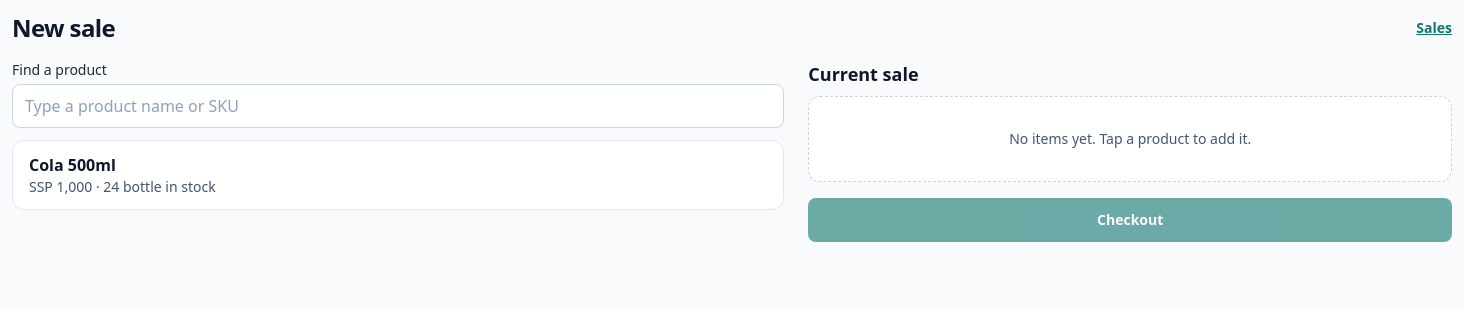
Test case: NewSalePage › adds products to the cart and keeps the total up to date
Click the button "Cola 500ml SSP 1,000 · 24 bottle in stock": (72, 165) x1=13 y1=141 x2=783 y2=209
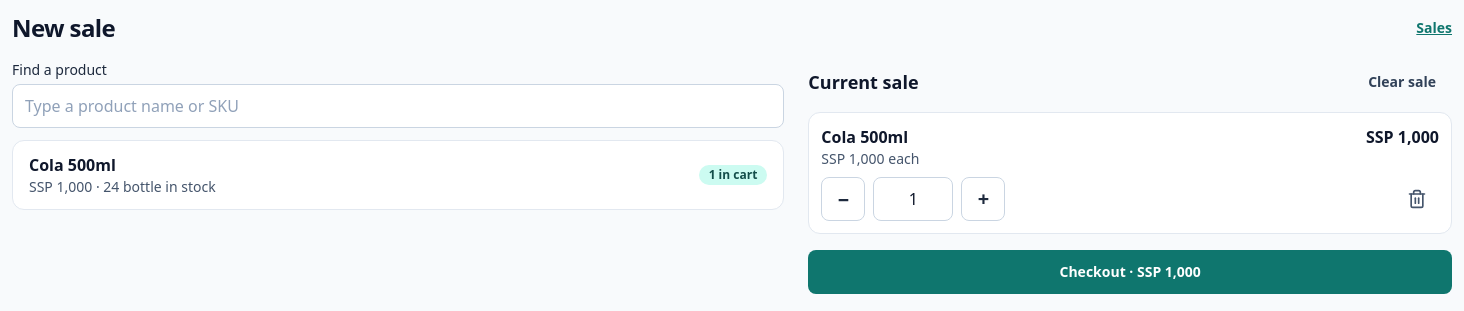
Expected: the button "Checkout · SSP 1,000" is enabled, x1=808 y1=250 x2=1452 y2=294
Click the button named "Increase quantity": (983, 199) x1=961 y1=177 x2=1005 y2=221
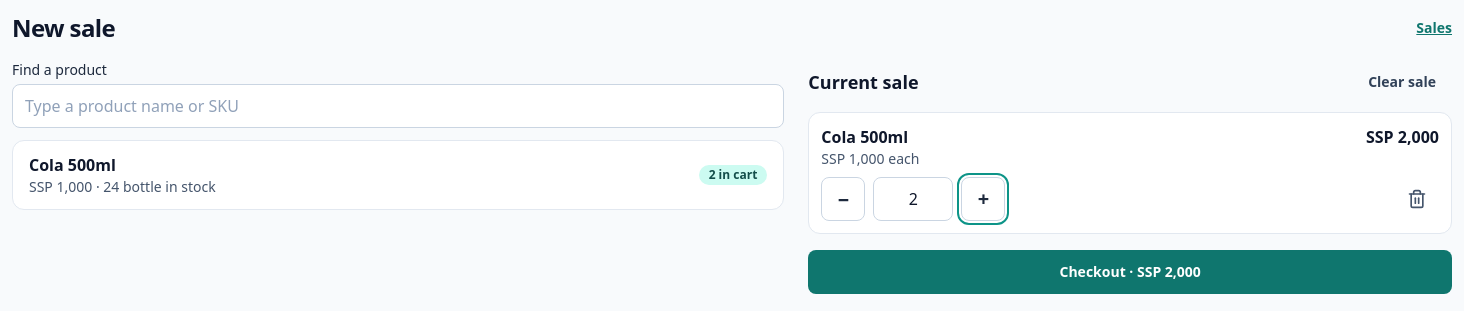
Expected: the button "Checkout · SSP 2,000" is shown, x1=808 y1=250 x2=1452 y2=294
